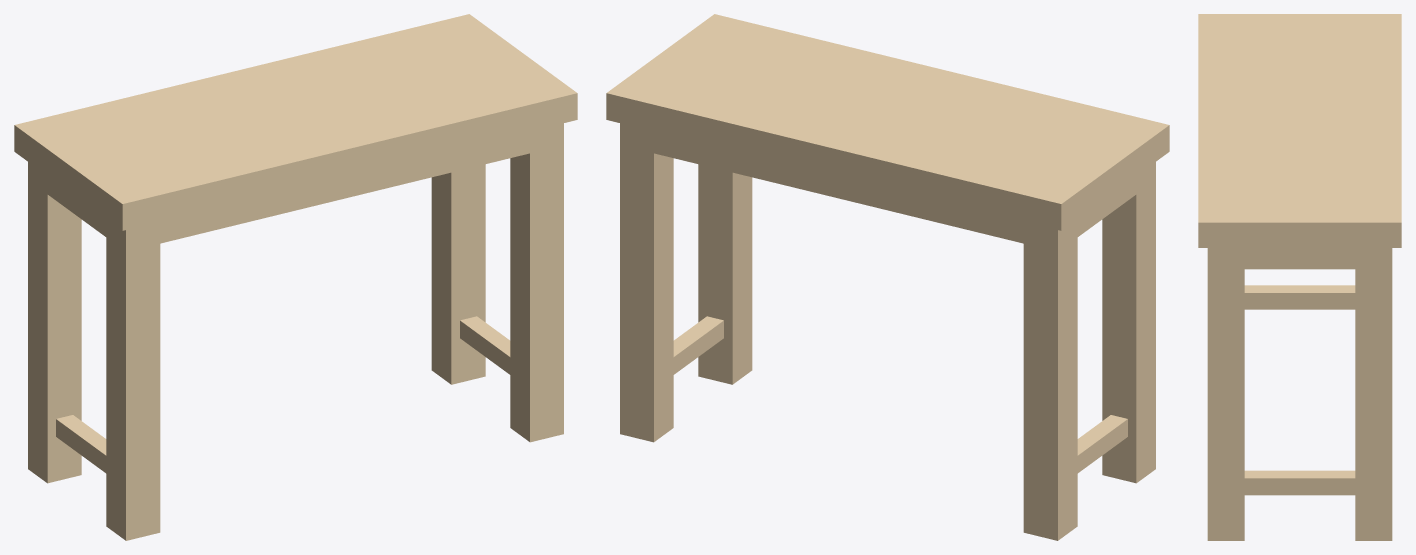
File: sideTable.glb
The picture shows the model from 3 angles, left to right: view 1: azimuth 30°, elevation 25°; view 2: azimuth 150°, elevation 25°; view 3: azimuth 270°, elevation 25°; orthographic projection. The views are drawn at different scales.
Parts seen in each view (by area): view 1: sideTable(Clone); view 2: sideTable(Clone); view 3: sideTable(Clone).
Boxes of the visible parts, x1,y1,x2,y2 form: sideTable(Clone): (14, 14, 577, 540); sideTable(Clone): (606, 14, 1169, 540); sideTable(Clone): (1198, 14, 1401, 540).
Bounding box in the file's own units: 0.5345 × 0.3844 × 0.22.
